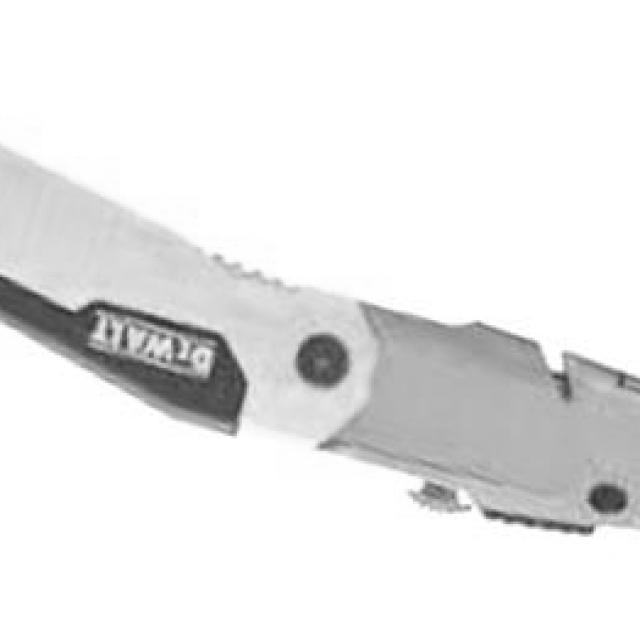estilete: (0, 146, 640, 531)
